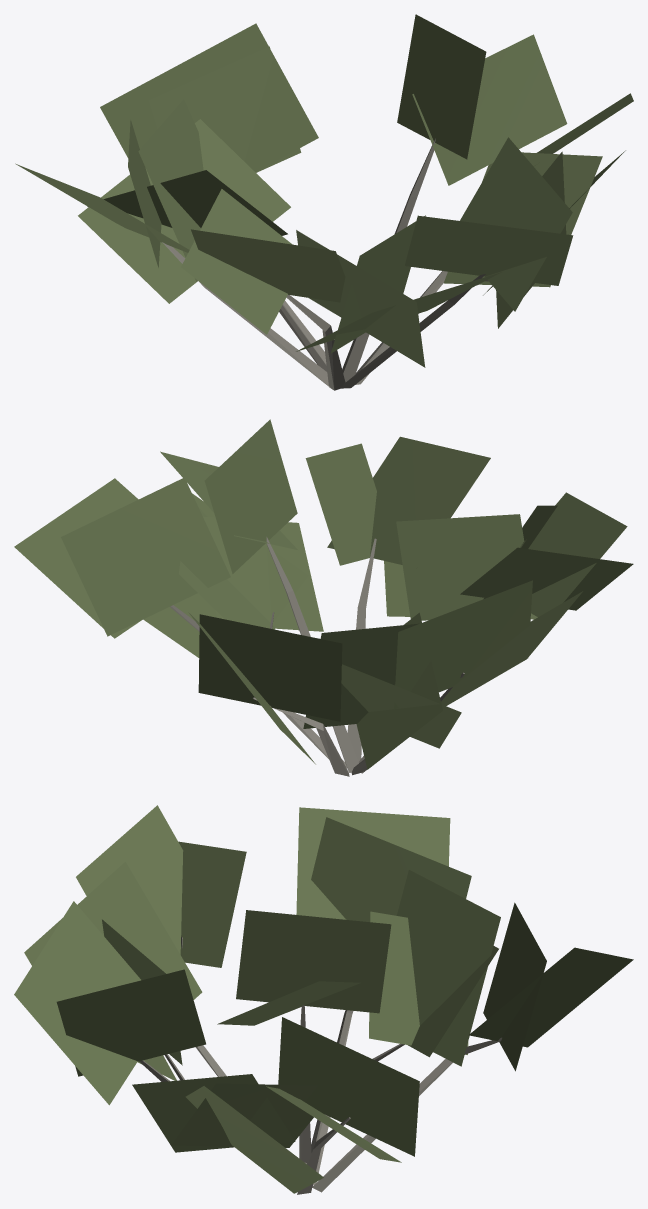
Rendered from dry-shrub-2_lod1.glb.
The picture shows the model from 3 angles, top to bottom: view 1: azimuth 30°, elevation 25°; view 2: azimuth 150°, elevation 25°; view 3: azimuth 270°, elevation 25°; orthographic projection. The views are drawn at different scales.
Visible parts, largest first — view 1: dry-shrub-2_lod1; view 2: dry-shrub-2_lod1; view 3: dry-shrub-2_lod1.
Part boxes in pixels (x1=…): dry-shrub-2_lod1: x1=15, y1=14, x2=633, y2=390; dry-shrub-2_lod1: x1=14, y1=419, x2=633, y2=776; dry-shrub-2_lod1: x1=14, y1=805, x2=633, y2=1194.
Bounding box in the file's own units: 1.72 × 0.92 × 1.54.
